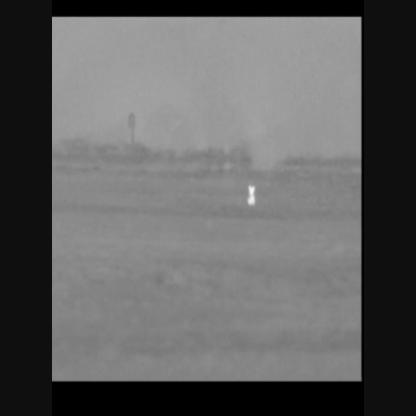rehkitze: (248, 184, 259, 208)
